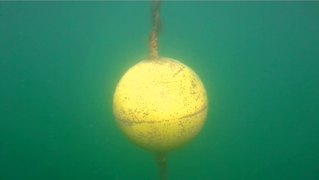buoy: (111, 57, 209, 153)
